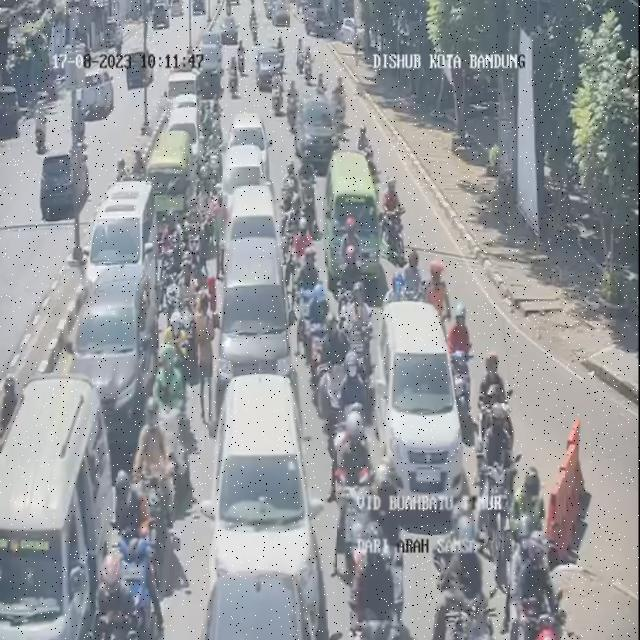cars: (210, 377, 328, 638), (0, 374, 112, 639), (372, 302, 458, 507), (64, 265, 155, 422), (216, 240, 296, 384), (88, 178, 162, 306), (194, 571, 328, 640), (323, 150, 382, 278), (224, 186, 284, 257), (149, 134, 196, 223), (224, 146, 268, 232), (297, 93, 338, 166), (228, 112, 272, 178), (165, 108, 202, 176), (197, 62, 222, 111), (258, 46, 281, 90), (222, 14, 239, 43), (274, 0, 290, 24), (265, 0, 277, 17)
motorcycle: (347, 468, 401, 608), (510, 463, 558, 617), (338, 411, 376, 603), (441, 459, 488, 606), (477, 399, 513, 556), (118, 468, 155, 600), (133, 410, 172, 535), (516, 541, 562, 638), (153, 348, 190, 466), (473, 350, 508, 456), (96, 548, 134, 638), (168, 252, 199, 360), (297, 244, 325, 358), (445, 303, 473, 416), (304, 275, 332, 366), (425, 258, 453, 336), (346, 287, 370, 370), (382, 177, 406, 259), (292, 217, 314, 296), (281, 155, 302, 235), (295, 157, 314, 241), (282, 186, 304, 254), (160, 211, 180, 280), (364, 620, 430, 640), (389, 262, 413, 308), (398, 254, 418, 306), (203, 120, 221, 175), (332, 72, 348, 132), (355, 119, 371, 171), (283, 75, 299, 126), (276, 68, 288, 120), (272, 70, 284, 119), (232, 60, 246, 102), (228, 58, 241, 100), (316, 67, 329, 99), (238, 40, 250, 74), (303, 53, 315, 86), (299, 52, 309, 85), (297, 45, 308, 72), (251, 15, 260, 44), (274, 30, 285, 52)
